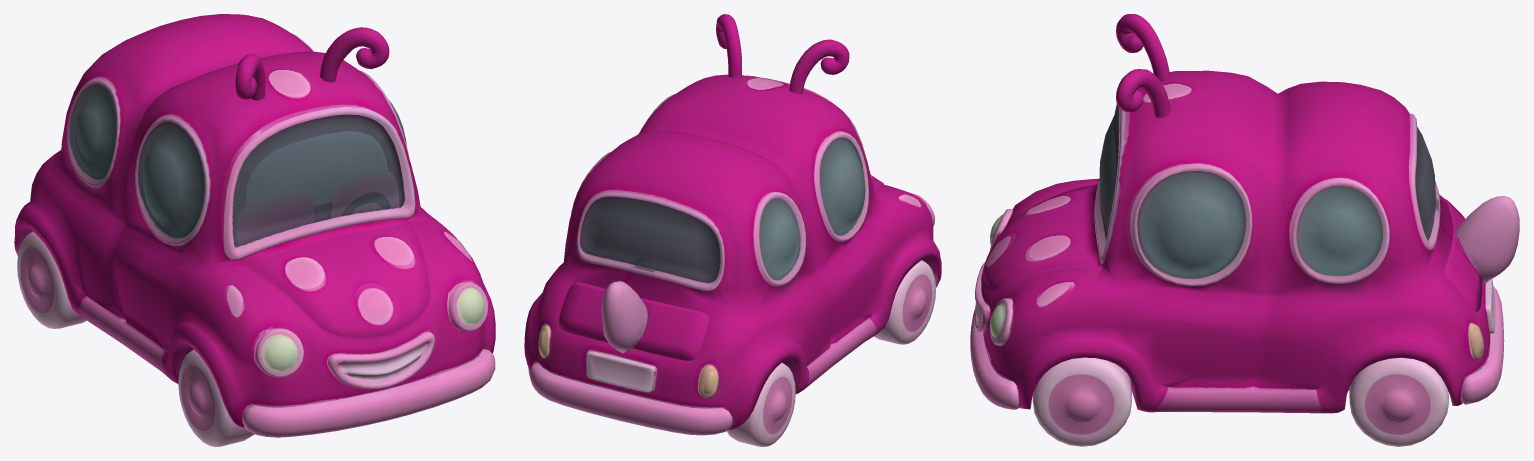
File: car-pitircik.glb
The picture shows the model from 3 angles, left to right: view 1: azimuth 30°, elevation 25°; view 2: azimuth 150°, elevation 25°; view 3: azimuth 270°, elevation 25°; orthographic projection. The views are drawn at different scales.
Parts seen in each view (by area): view 1: tripo_node_8936997e-a49b-40e5-a644-f4fe6fd76799; view 2: tripo_node_8936997e-a49b-40e5-a644-f4fe6fd76799; view 3: tripo_node_8936997e-a49b-40e5-a644-f4fe6fd76799.
Boxes of the visible parts, x1,y1,x2,y2 form: tripo_node_8936997e-a49b-40e5-a644-f4fe6fd76799: [14, 14, 495, 446]; tripo_node_8936997e-a49b-40e5-a644-f4fe6fd76799: [524, 14, 941, 446]; tripo_node_8936997e-a49b-40e5-a644-f4fe6fd76799: [970, 14, 1519, 446].
Size of the model in its own units: 0.5806 by 0.6909 by 0.9995.
Materials: 1 (1 with a texture image).
